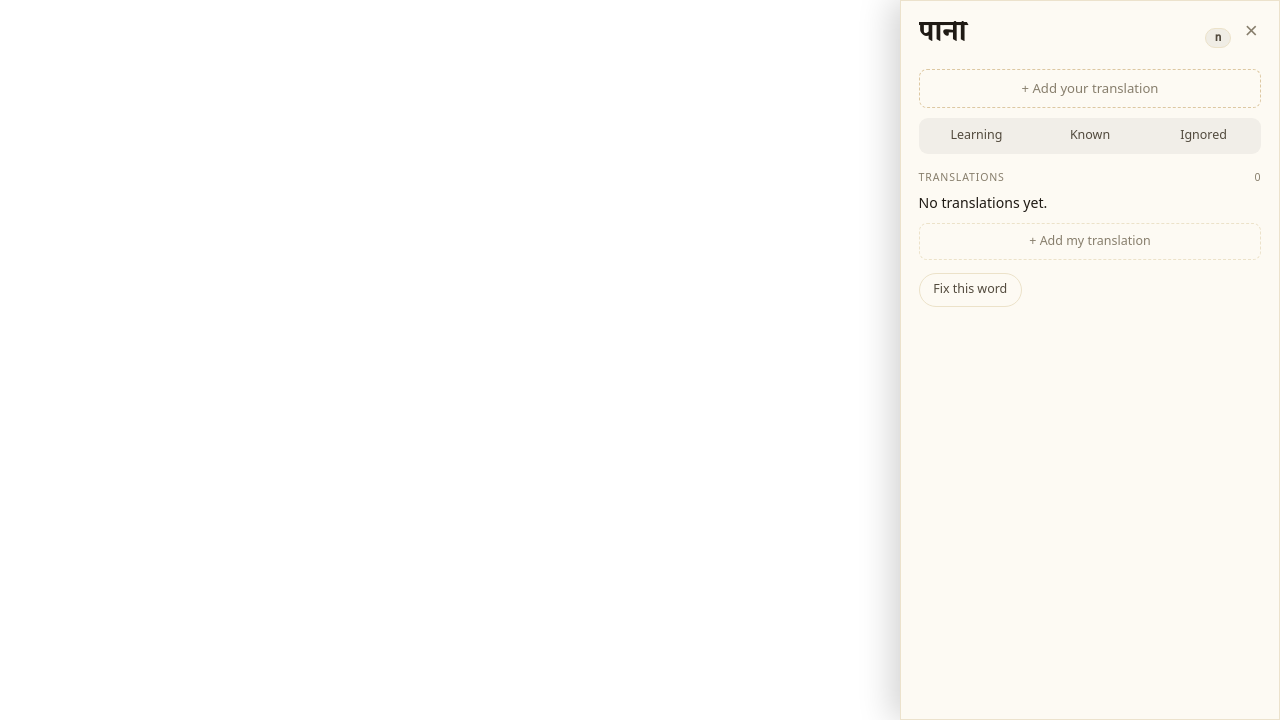
Test: WordPopup — primary translation editor (above status buttons) › clicking the empty slot opens an autofocused textarea and POSTs a new personal translation
The image size is (1280, 720).
Click the button with test id "primary-translation-edit" at {"x": 1090, "y": 89}, box [919,69,1261,108]
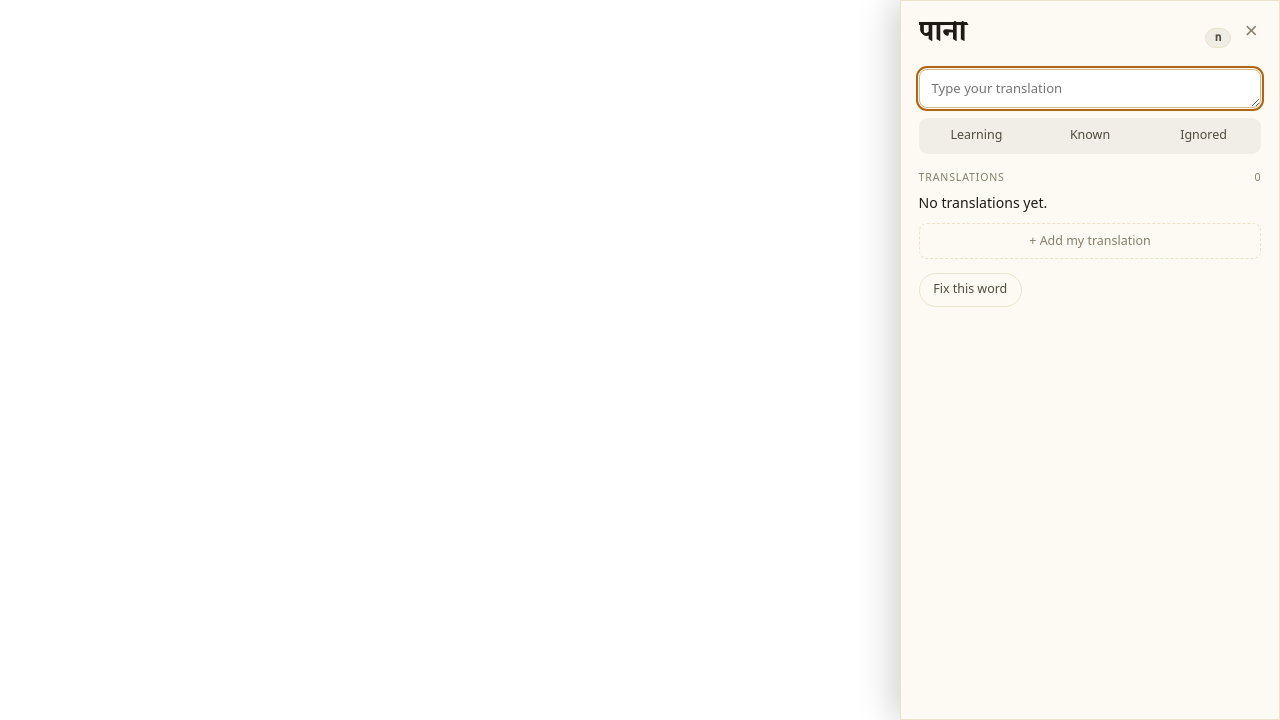
Type "water" into the text box with placeholder "Type your translation" at {"x": 1090, "y": 89}, box [919,69,1261,108]
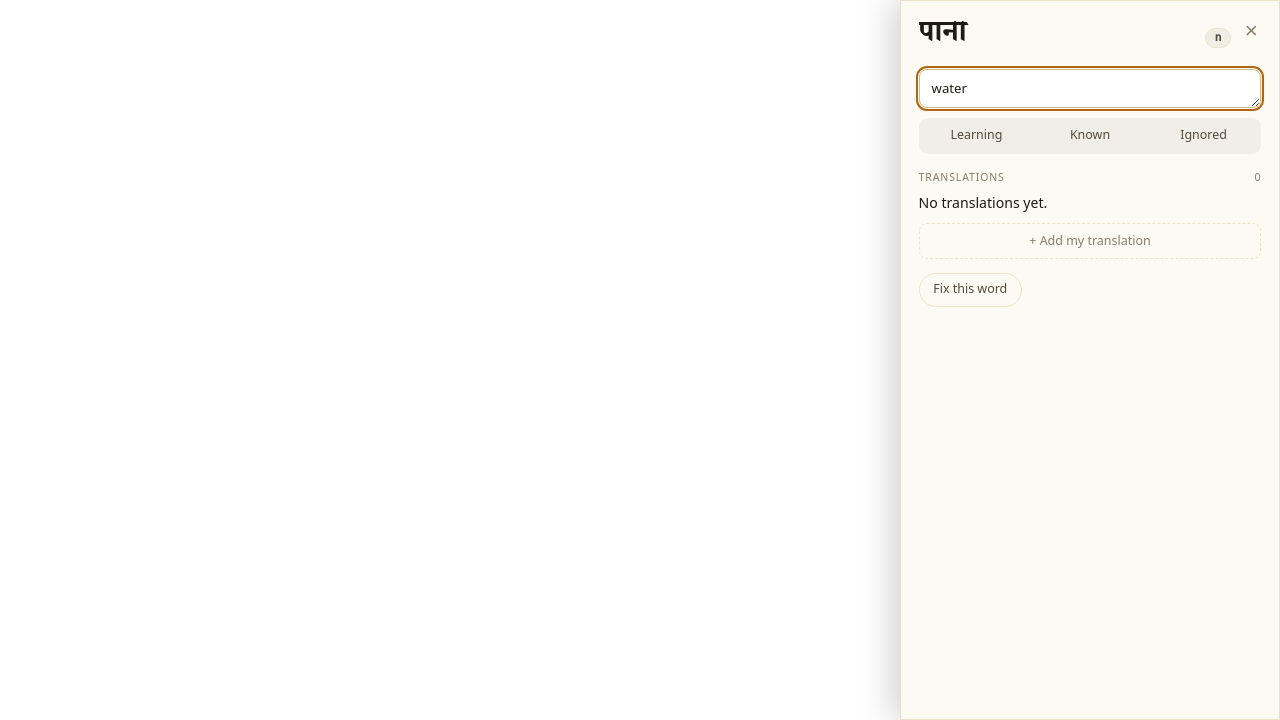
Press Enter in the text box named "Your translation", box [919,69,1261,108]
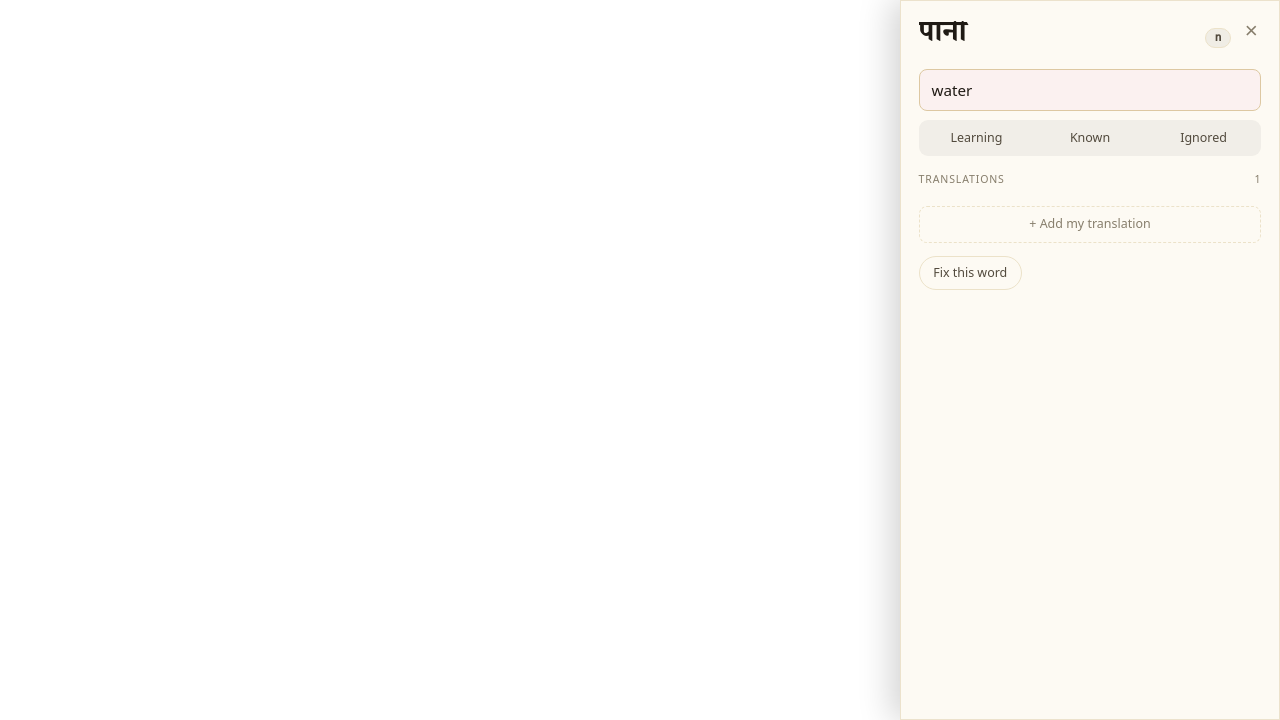
Expected: the text "water" is shown, [932,80,972,100]
